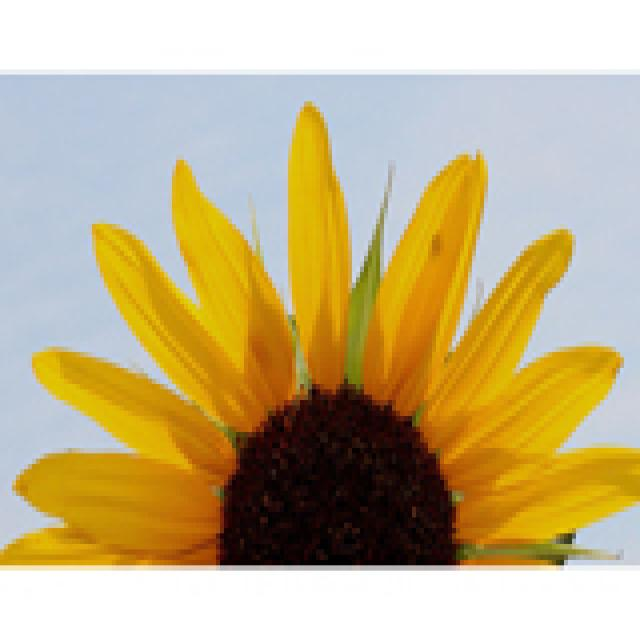sunflower: (5, 75, 640, 570)
